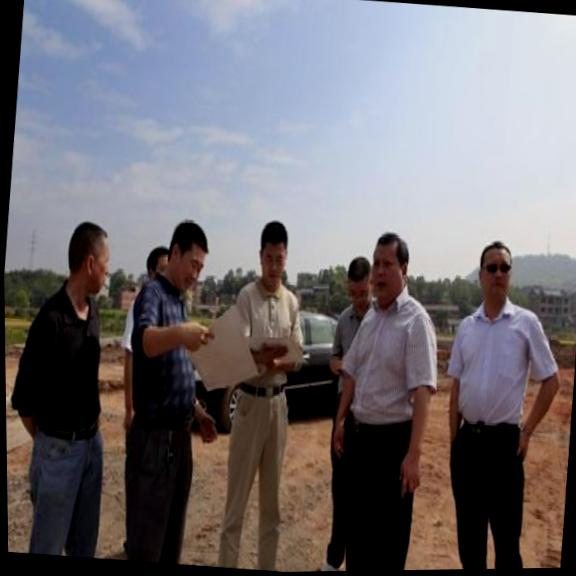no_safety_vest: (439, 292, 572, 449), (331, 282, 448, 445), (4, 282, 116, 446), (119, 269, 212, 438), (225, 277, 314, 404)
